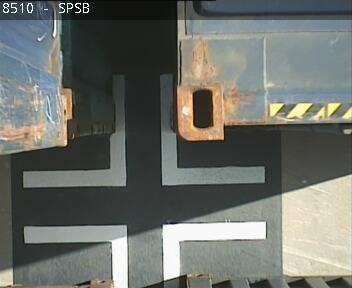groundmarker_1: (22, 73, 265, 188), (23, 219, 265, 288)
